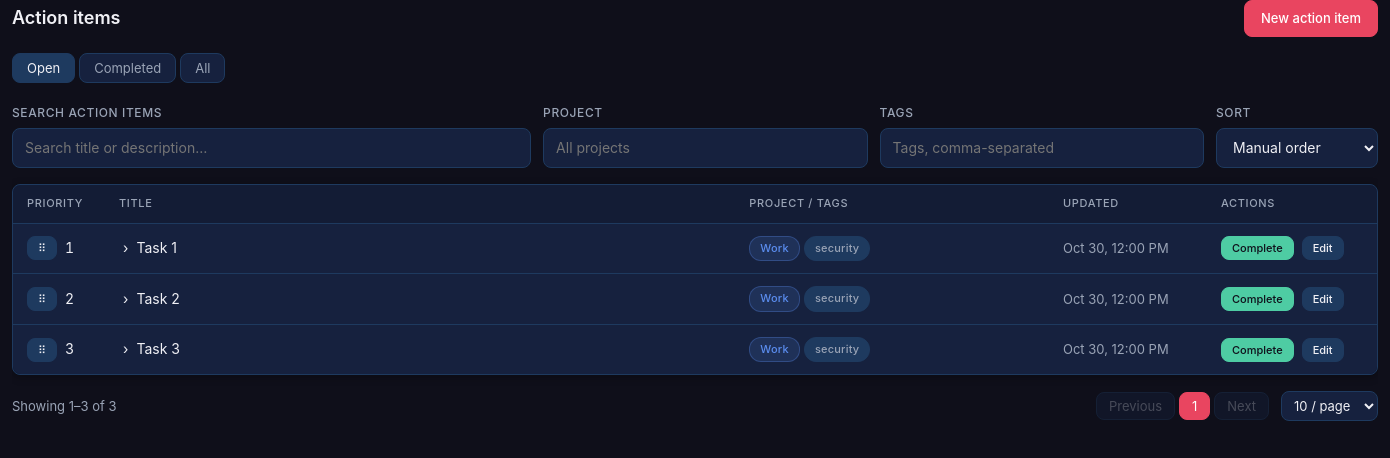
Test: ActionItemsIndexPage › shows actual queue priorities in filtered title order and completed rows
Expected: the button "› Task 1" is shown, [119,235,181,262]
Type "Work" into the field labelled "Project".
click(705, 148); type("Work")  # box [543,128,868,168]
Wait 300 ms
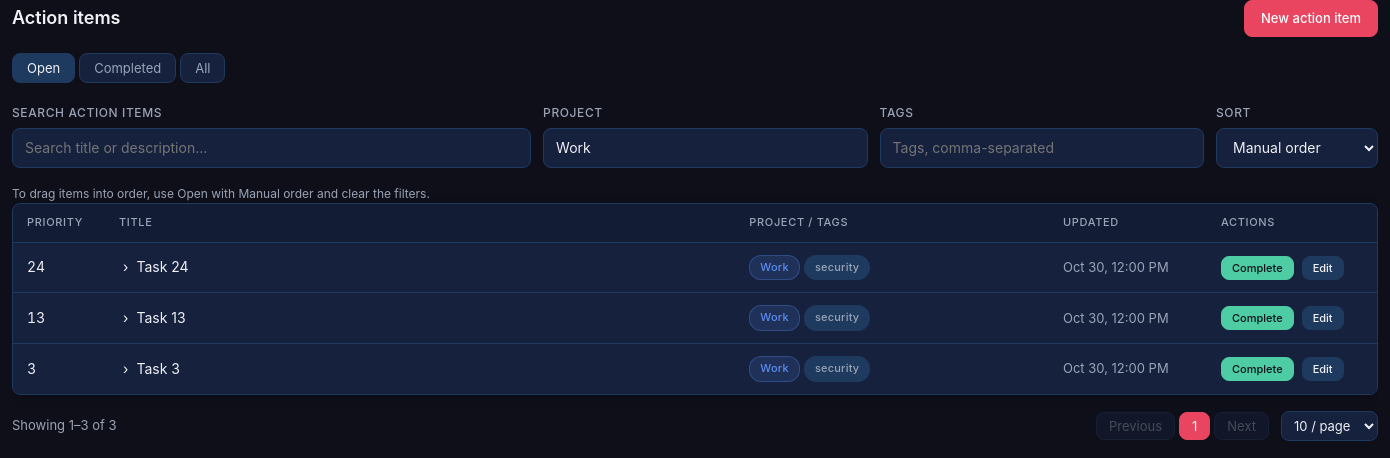
Select "Title A–Z" in the dropdown labelled "Sort" at (1297, 148), box [1216,128,1378,168]
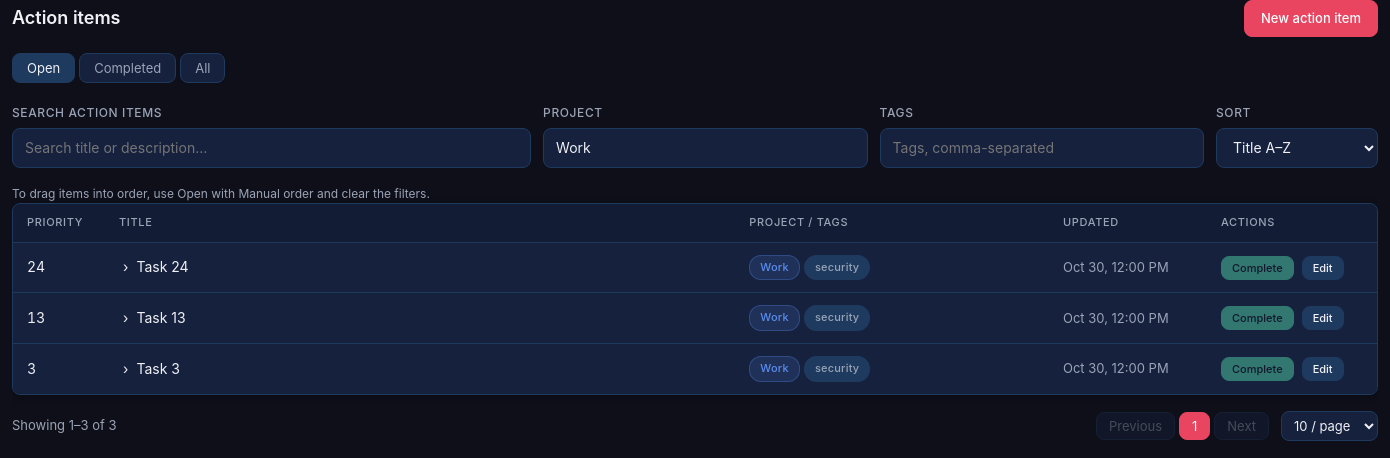
Expected: the column headings read "Priority", "Title", "Project / tags", "Updated", "Actions", in this order, [13,204,105,242]; [105,204,735,242]; [735,204,1049,242]; [1049,204,1207,242]; [1207,204,1377,242]
Result: the button "› Task 24" is shown at [119,254,193,281]
Click the tab "Completed".
click(128, 68)  # box [79,53,176,83]
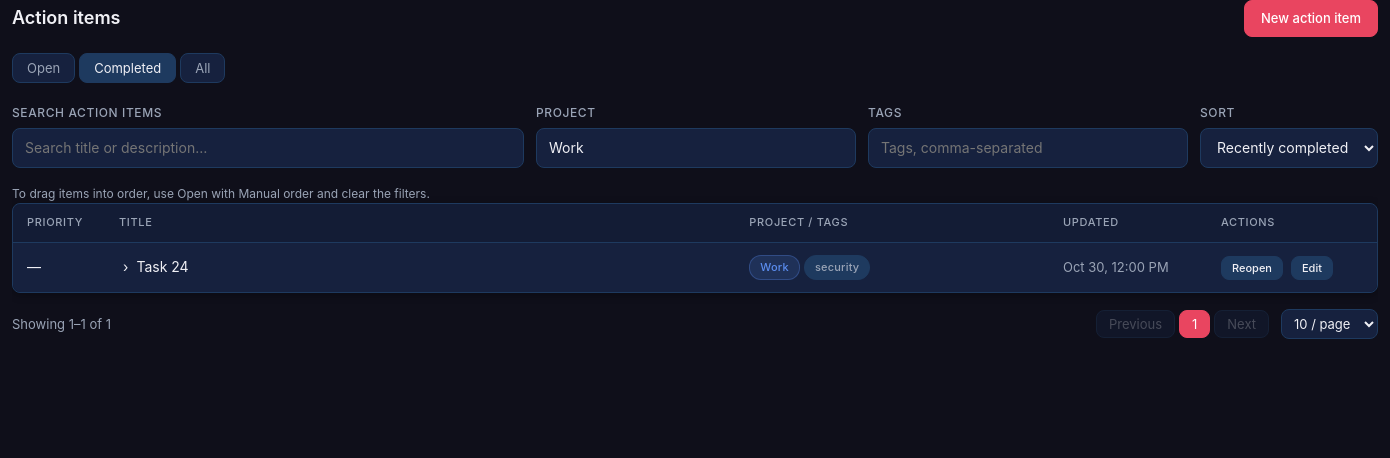
Result: the button with aria-label "Reopen Task 24" is shown at [1221,256,1283,280]
Result: the text named "No open queue priority" reads "—" at [27,258,41,275]
Result: the buttons read "Reopen", "Edit", in this order at [1221,256,1283,280]; [1291,256,1333,280]
